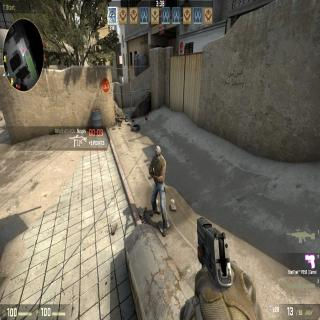T-Body: (148, 145, 168, 231)
T-Head: (154, 144, 162, 162)
